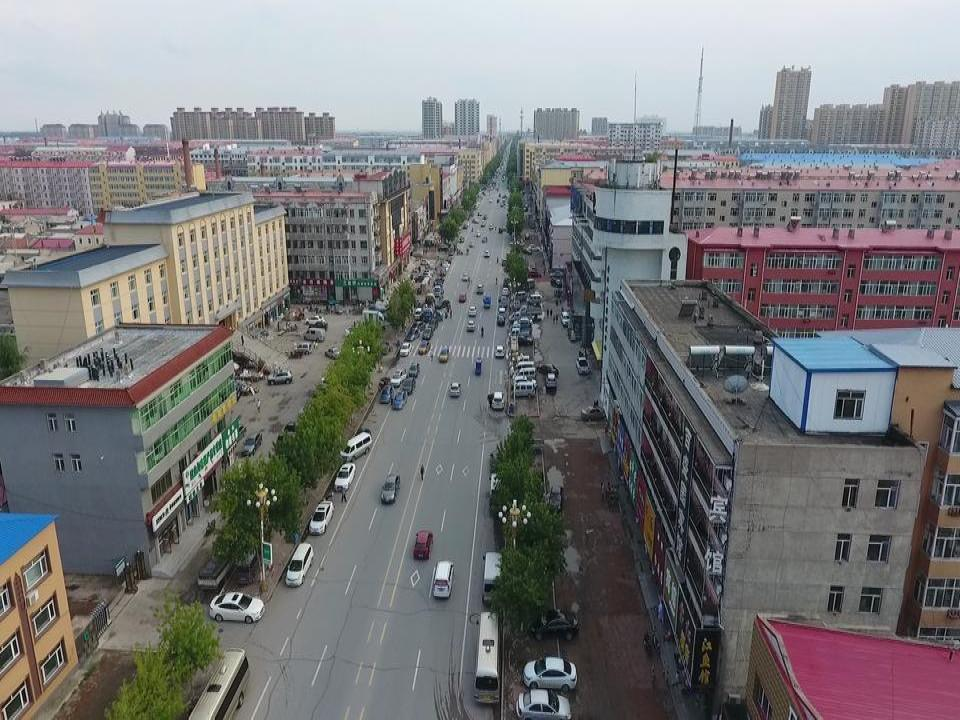bus: (183, 649, 252, 720), (475, 612, 501, 704), (488, 473, 510, 520)
car: (523, 654, 577, 690), (208, 592, 265, 624), (515, 688, 571, 720), (526, 612, 578, 640), (307, 502, 335, 534), (432, 563, 452, 597), (333, 462, 355, 490), (380, 474, 401, 503), (413, 530, 432, 558), (242, 430, 262, 455), (581, 407, 608, 421), (267, 369, 291, 384), (344, 325, 369, 339), (487, 391, 505, 409), (490, 451, 505, 472), (538, 363, 558, 377), (379, 385, 394, 403), (391, 369, 406, 387), (392, 392, 407, 409), (513, 320, 533, 332), (402, 377, 415, 395), (511, 336, 532, 347), (325, 347, 341, 360), (308, 321, 328, 331), (408, 362, 420, 378), (304, 316, 324, 325), (417, 340, 430, 353), (399, 343, 412, 356), (449, 383, 461, 397), (546, 372, 556, 388), (421, 328, 434, 340), (411, 322, 424, 334), (406, 329, 420, 340), (439, 348, 449, 363), (494, 346, 505, 358), (428, 318, 439, 330), (436, 300, 450, 308), (499, 296, 507, 308), (467, 320, 475, 331), (468, 305, 476, 316), (496, 316, 505, 325), (459, 292, 466, 303), (475, 286, 484, 294), (498, 307, 506, 316), (502, 288, 508, 296)
truck: (197, 521, 251, 595), (519, 305, 542, 319), (363, 311, 385, 325), (508, 328, 530, 341), (510, 325, 532, 338), (510, 312, 532, 325), (575, 357, 588, 375), (433, 285, 442, 296)
van: (285, 541, 314, 587), (482, 551, 504, 605), (339, 431, 371, 460), (237, 552, 261, 583), (511, 382, 535, 397), (513, 376, 537, 391), (304, 327, 325, 341), (515, 361, 535, 375), (510, 355, 530, 368), (515, 370, 536, 382), (297, 342, 312, 354), (560, 310, 570, 326), (511, 292, 525, 303), (527, 293, 540, 304)
